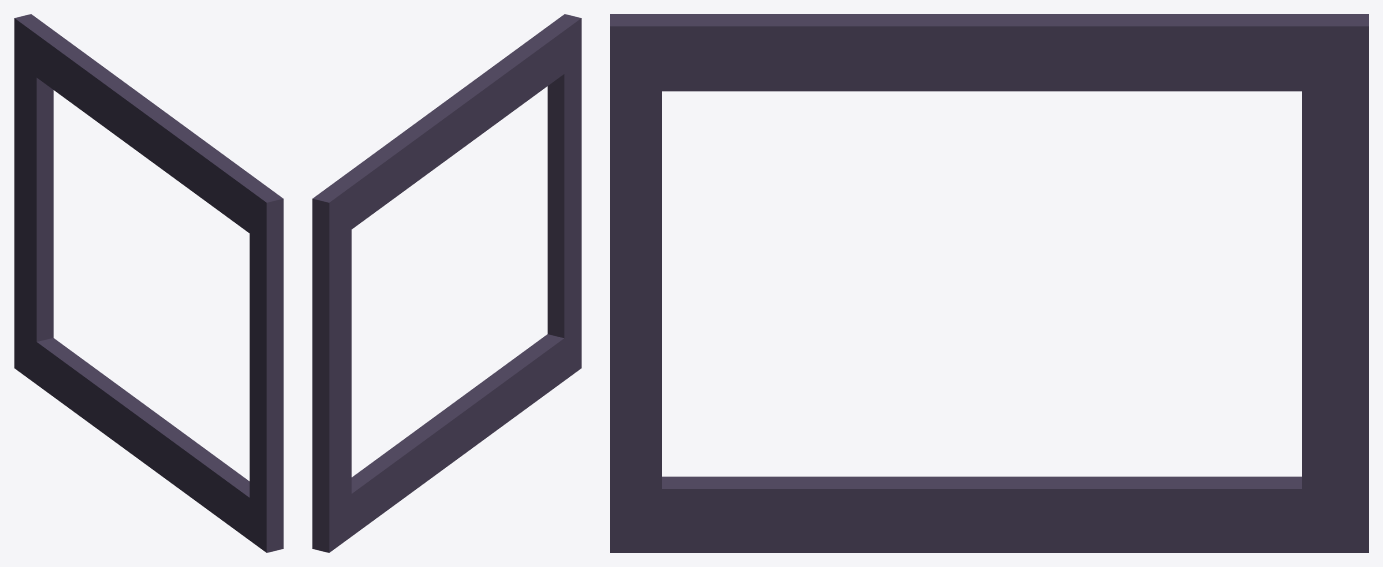
File: MediumFrame1.fbx
3 renders of one model, left to right at view 1: azimuth 30°, elevation 25°; view 2: azimuth 150°, elevation 25°; view 3: azimuth 270°, elevation 25°, orthographic. The views are drawn at different scales.
Visible parts, largest first — view 1: MediumFrame1; view 2: MediumFrame1; view 3: MediumFrame1.
Boxes of the visible parts, x1,y1,x2,y2 form: MediumFrame1: (14,14,283,552); MediumFrame1: (312,14,581,552); MediumFrame1: (610,14,1368,552).
Size of the model in its own units: 4.52 by 90.25 by 118.
